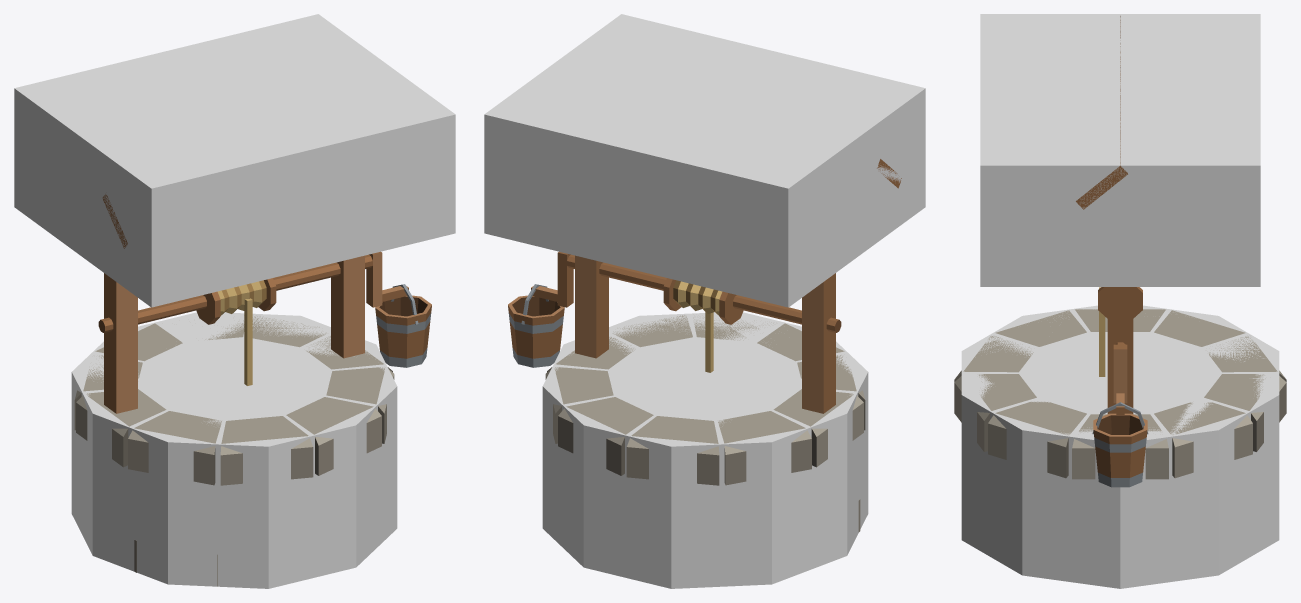
File: FMS_Well.fbx
3 renders of one model, left to right at view 1: azimuth 30°, elevation 25°; view 2: azimuth 150°, elevation 25°; view 3: azimuth 270°, elevation 25°, orthographic. The views are drawn at different scales.
Parts seen in each view (by area): view 1: FMS_Well_Roof_Col, FMS_Well_Col, FMS_Well_LOD0, FMS_Well_Winch; view 2: FMS_Well_Roof_Col, FMS_Well_Col, FMS_Well_LOD0, FMS_Well_Winch; view 3: FMS_Well_Roof_Col, FMS_Well_Col, FMS_Well_LOD0, FMS_Well_Winch.
Part boxes in pixels (bbox=[...]): FMS_Well_Roof_Col: bbox=[14, 14, 455, 307]; FMS_Well_Col: bbox=[71, 312, 397, 588]; FMS_Well_LOD0: bbox=[74, 194, 431, 586]; FMS_Well_Winch: bbox=[98, 251, 408, 332]; FMS_Well_Roof_Col: bbox=[484, 14, 925, 307]; FMS_Well_Col: bbox=[542, 312, 868, 588]; FMS_Well_LOD0: bbox=[508, 159, 901, 532]; FMS_Well_Winch: bbox=[531, 251, 841, 332]; FMS_Well_Roof_Col: bbox=[980, 14, 1260, 286]; FMS_Well_Col: bbox=[961, 305, 1279, 588]; FMS_Well_LOD0: bbox=[954, 16, 1286, 487]; FMS_Well_Winch: bbox=[1098, 287, 1142, 414].
Size of what is drawn, in the model's own units: 2.07 by 2.42 by 1.7.
Materials: 1 (1 with a texture image).
